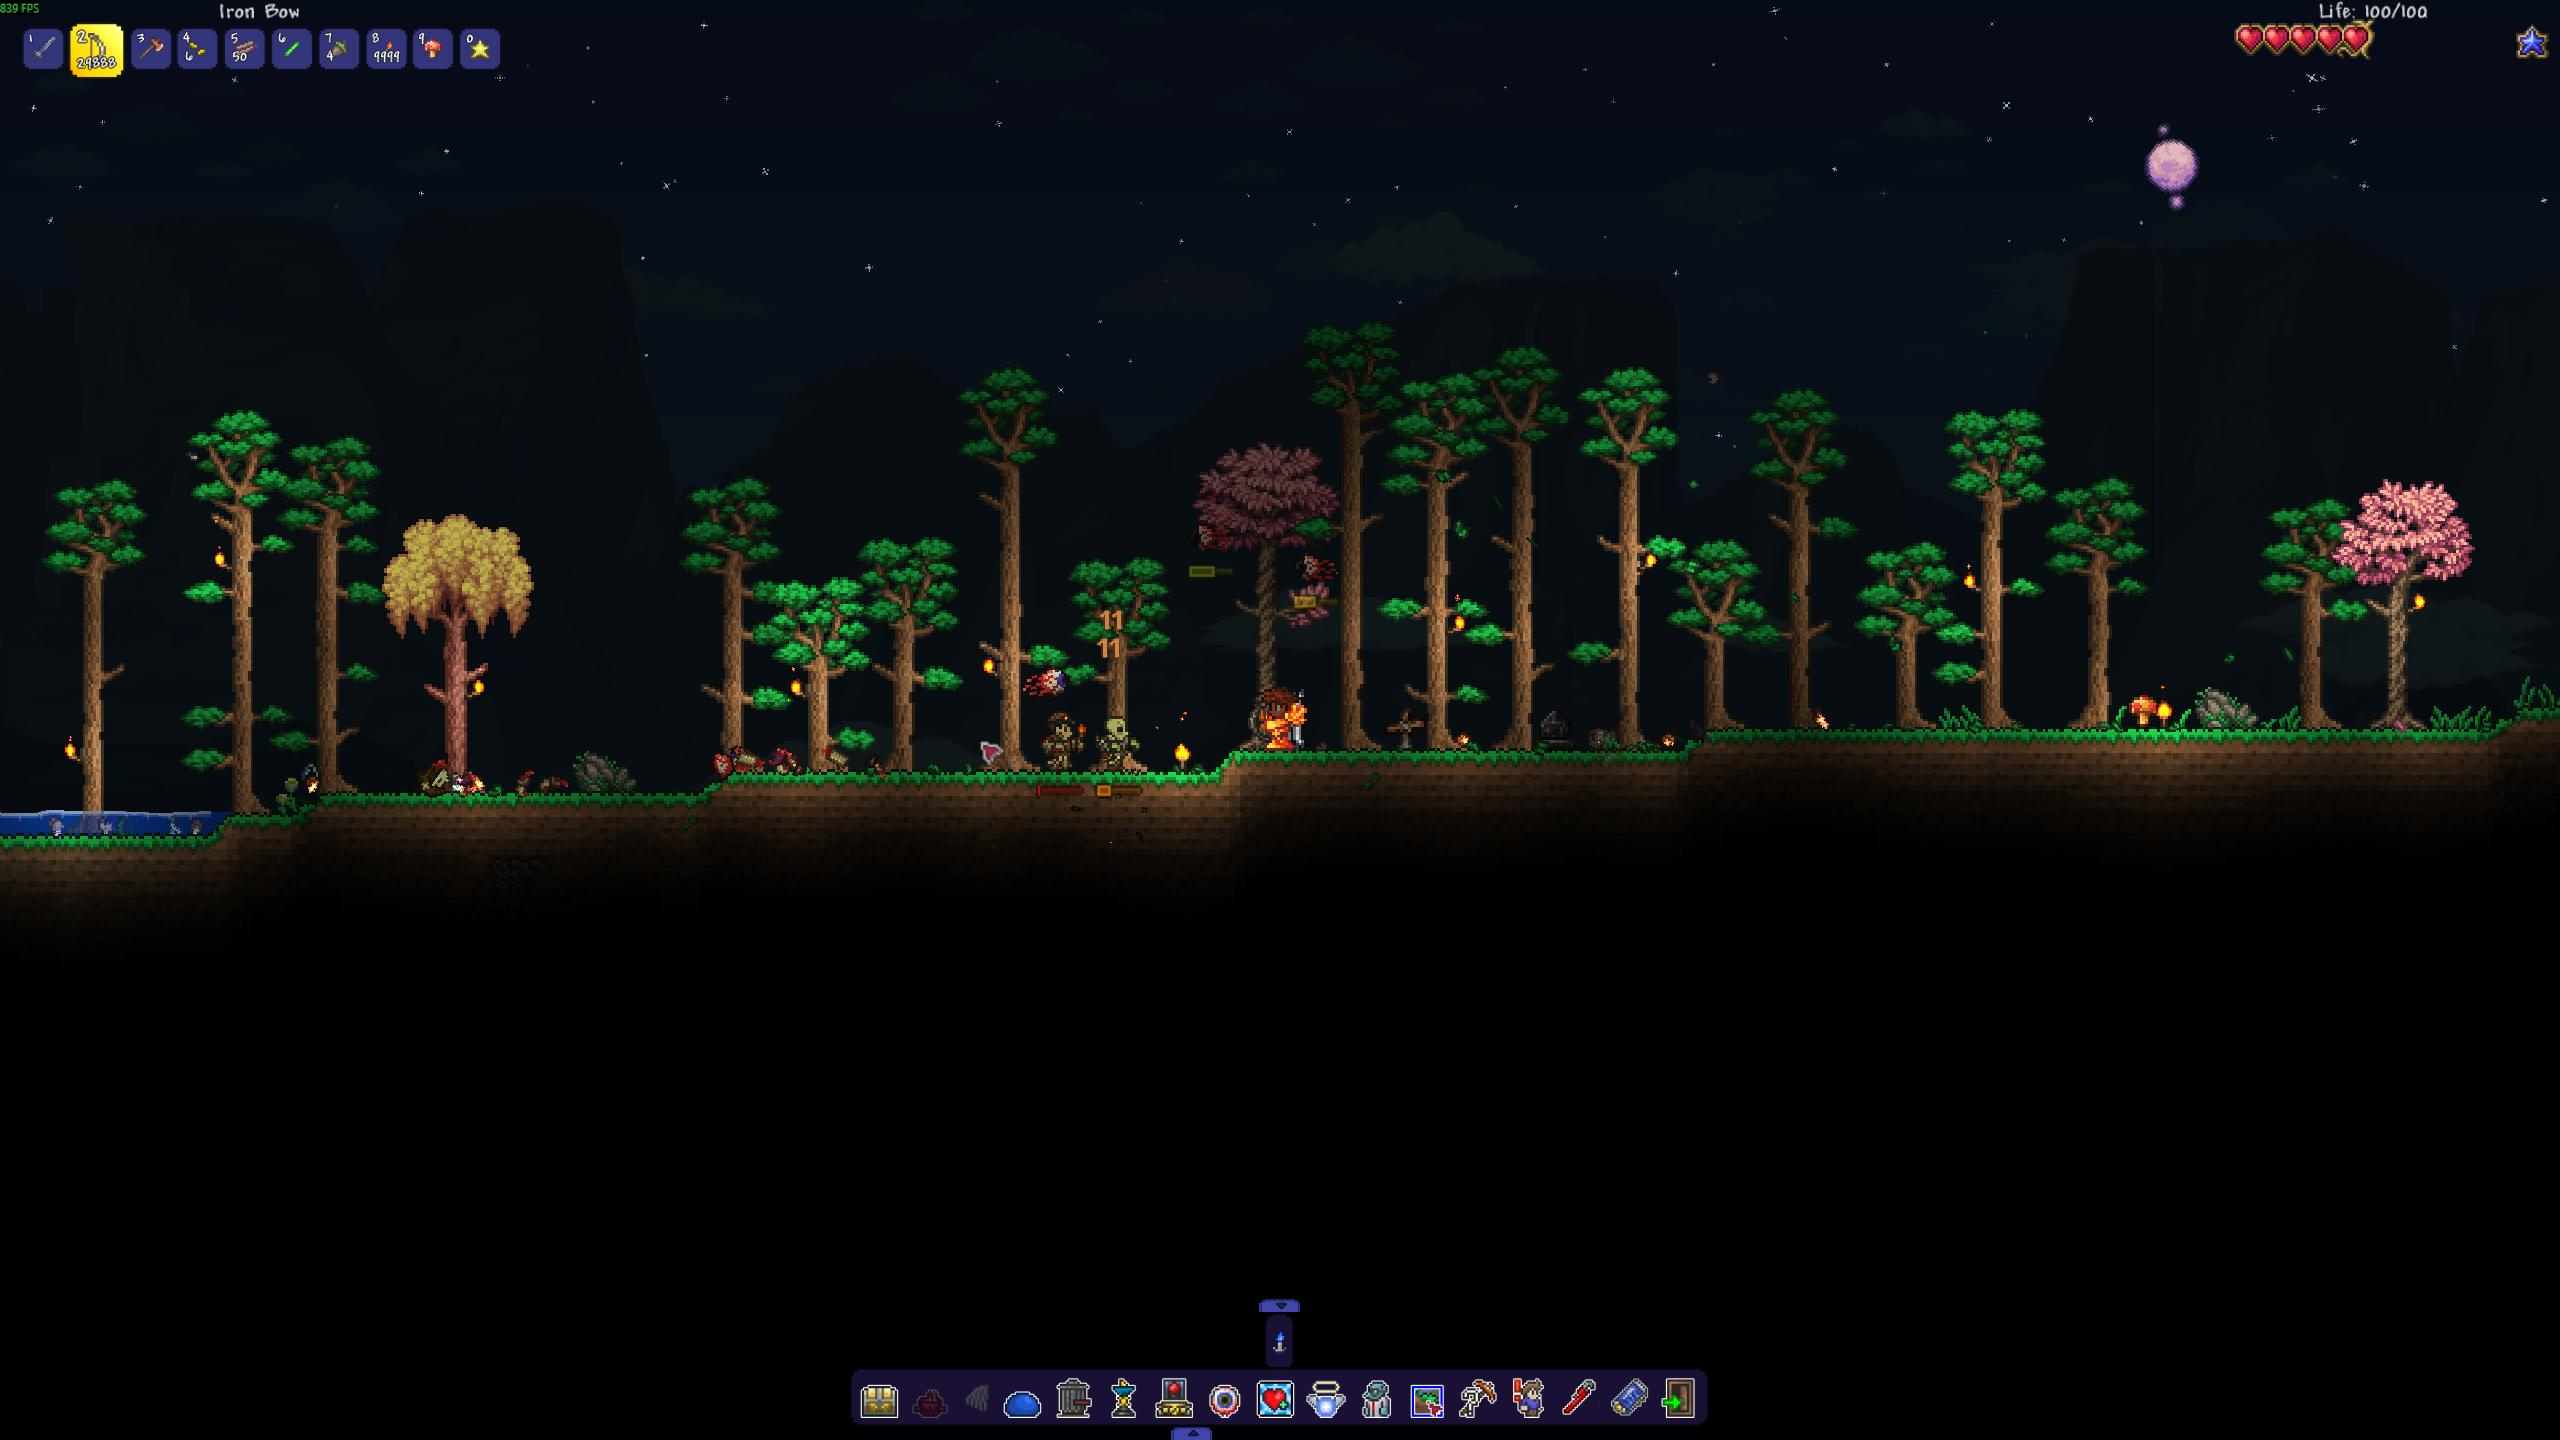Demon Eye: (1185, 515, 1238, 559), (1287, 545, 1338, 587), (1023, 666, 1071, 698)
Zombie: (1039, 710, 1085, 770), (1095, 714, 1141, 770)
